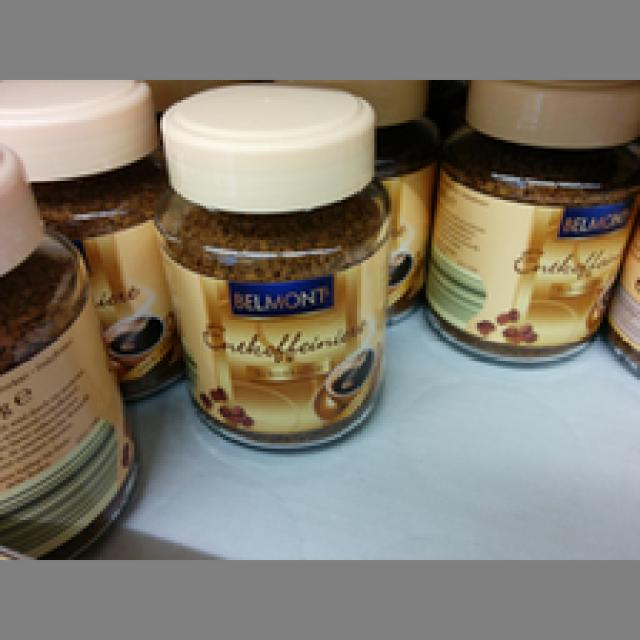groceries: (152, 83, 388, 451), (417, 77, 637, 363)
